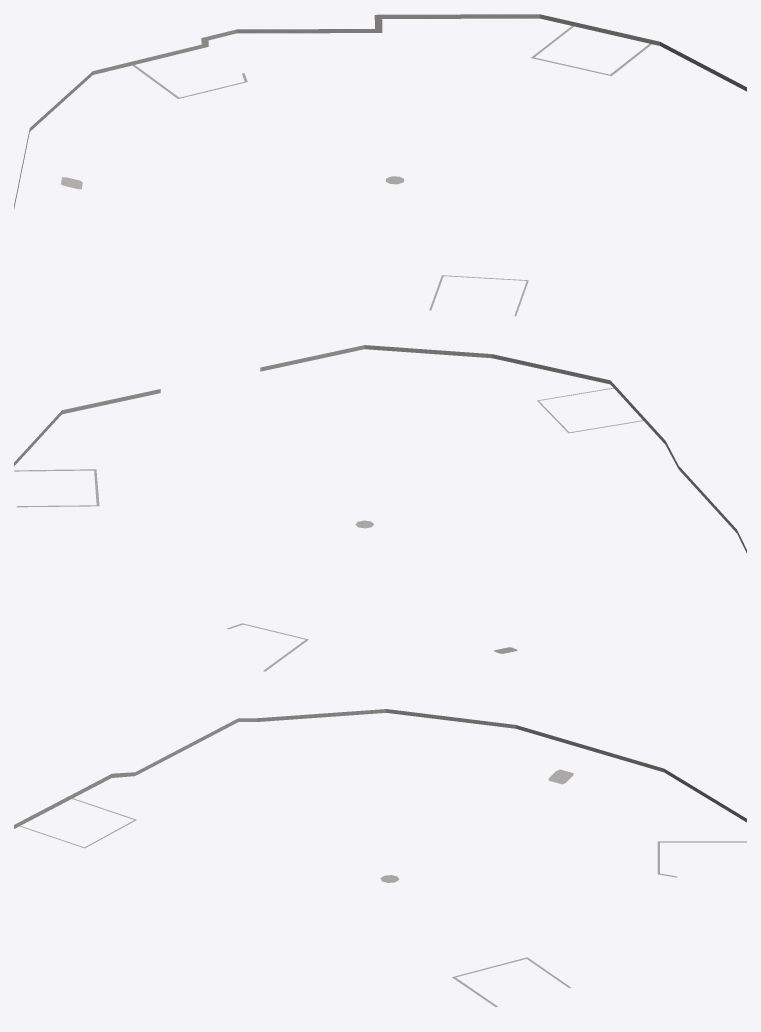
The model's file is kd_stage_1363c5_11_14.glb.
The picture shows the model from 3 angles, top to bottom: view 1: azimuth 30°, elevation 25°; view 2: azimuth 150°, elevation 25°; view 3: azimuth 270°, elevation 25°; orthographic projection. The views are drawn at different scales.
Parts seen in each view (by area): view 1: kd_stage_1363c5_11_14; view 2: kd_stage_1363c5_11_14; view 3: kd_stage_1363c5_11_14.
Boxes of the visible parts, x1=… form: kd_stage_1363c5_11_14: x1=14, y1=14, x2=746, y2=316; kd_stage_1363c5_11_14: x1=14, y1=345, x2=746, y2=671; kd_stage_1363c5_11_14: x1=14, y1=709, x2=746, y2=1006.
Size of the model in its own units: 45.04 by 2.3 by 42.94.
Materials: 1 (1 with a texture image).
